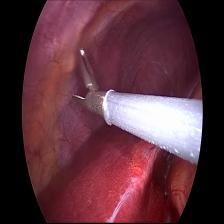Grasper: (70, 42, 109, 127)
